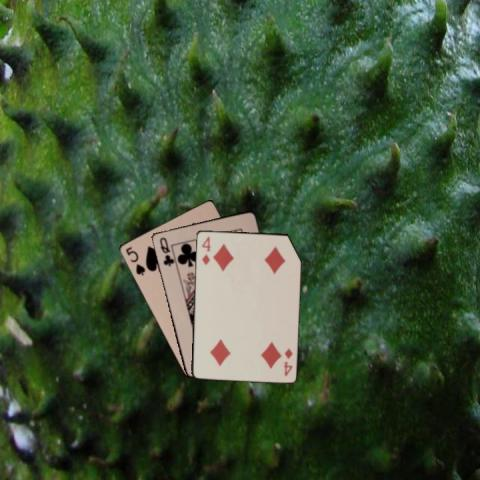4d: (199, 233, 212, 266), (281, 345, 294, 377)
5s: (122, 243, 146, 277)
Qc: (156, 234, 174, 267)
